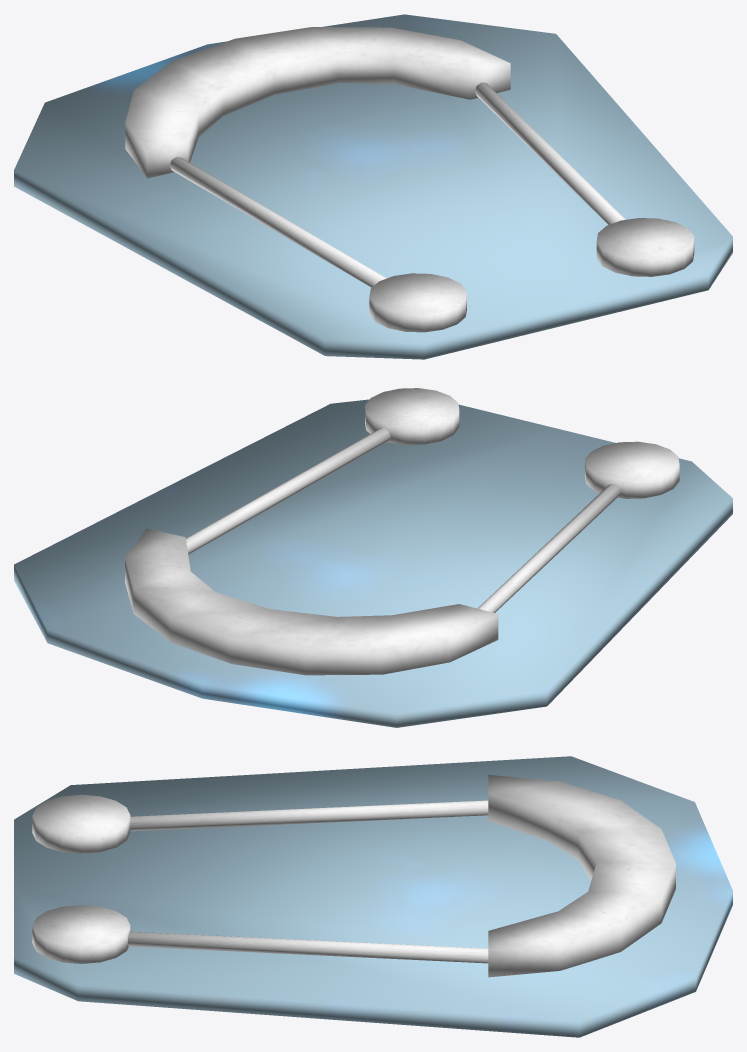
The model's file is Scale.fbx.
3 views of the same model, one above another, from view 1: azimuth 30°, elevation 25°; view 2: azimuth 150°, elevation 25°; view 3: azimuth 270°, elevation 25° (orthographic). The views are drawn at different scales.
Visible parts, largest first — view 1: prop_Btr_Scale; view 2: prop_Btr_Scale; view 3: prop_Btr_Scale.
Boxes of the visible parts, x1,y1,x2,y2 form: prop_Btr_Scale: [14, 14, 732, 359]; prop_Btr_Scale: [14, 388, 732, 727]; prop_Btr_Scale: [14, 756, 732, 1037].
Size of the model in its own units: 0.278 by 0.021 by 0.3185.
